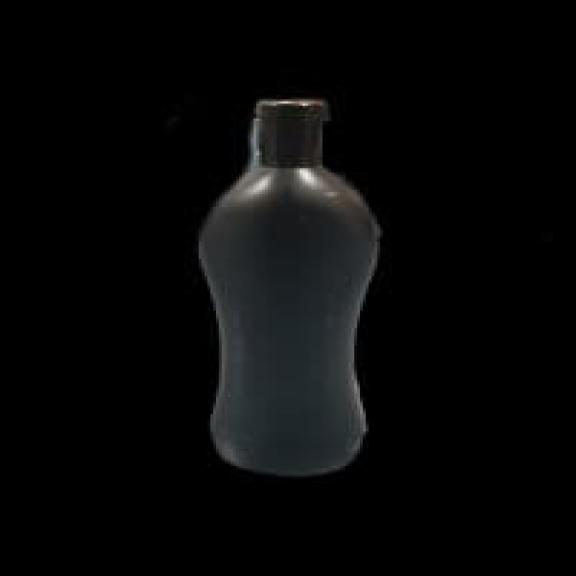Plastik: (200, 99, 378, 476)
